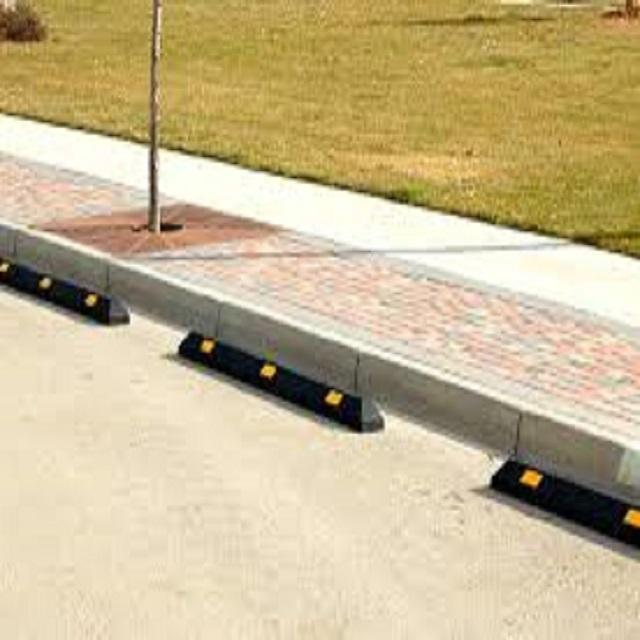bump: (354, 318, 536, 466), (252, 292, 430, 396), (0, 205, 136, 294), (109, 249, 233, 342)
